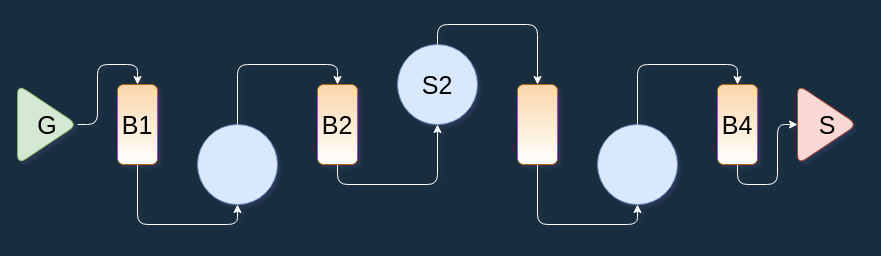
Some shapes in this 881 by 256 pixel diagram are drawn without their labels. Here are the shapes that lost their labels. From the top down, the centre of each, then its label:
the point at 537,124: B3
the point at 237,164: S1
the point at 637,164: S3
